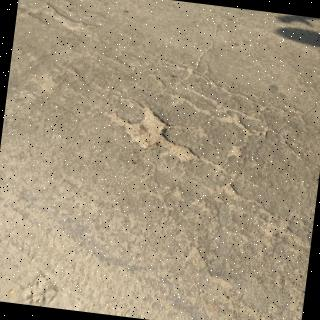pothole: (108, 106, 197, 166)
